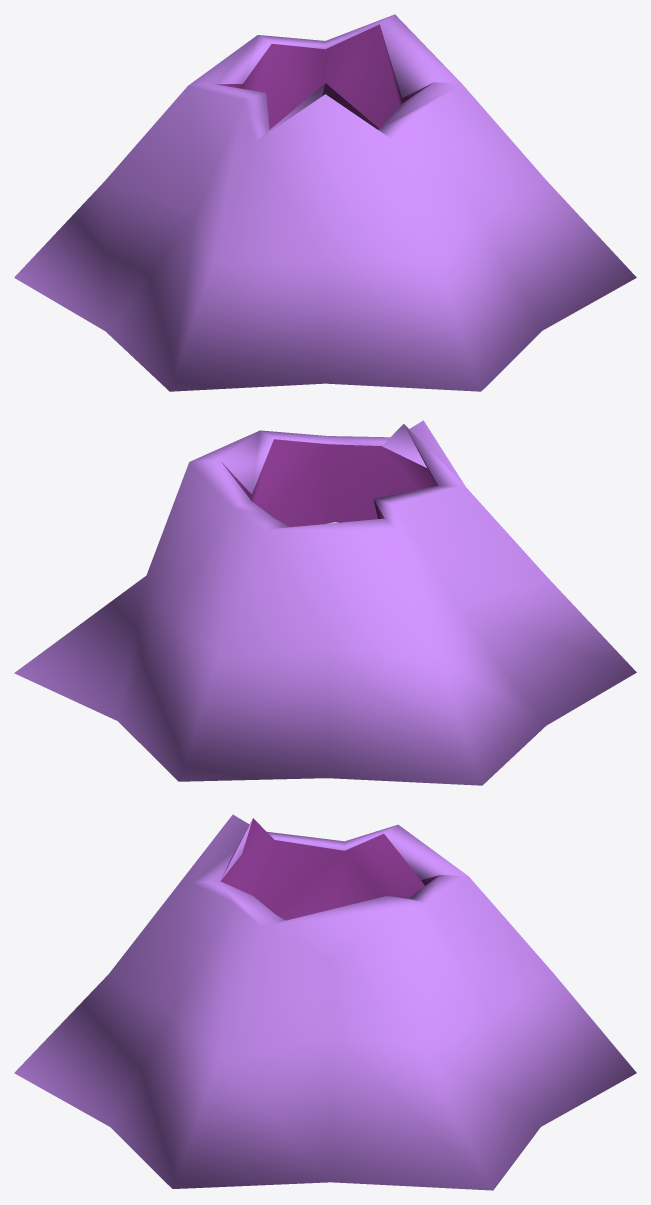
The model's file is volcano.fbx.
3 views of the same model, one above another, from view 1: azimuth 30°, elevation 25°; view 2: azimuth 150°, elevation 25°; view 3: azimuth 270°, elevation 25° (orthographic). The views are drawn at different scales.
Visible parts, largest first — view 1: Cylinder; view 2: Cylinder; view 3: Cylinder.
Boxes of the visible parts, left/top/right/bottom form: Cylinder: left=14, top=14, right=636, bottom=391; Cylinder: left=14, top=420, right=636, bottom=785; Cylinder: left=14, top=814, right=636, bottom=1190.
Bounding box in the file's own units: 1171 × 553 × 1321.
